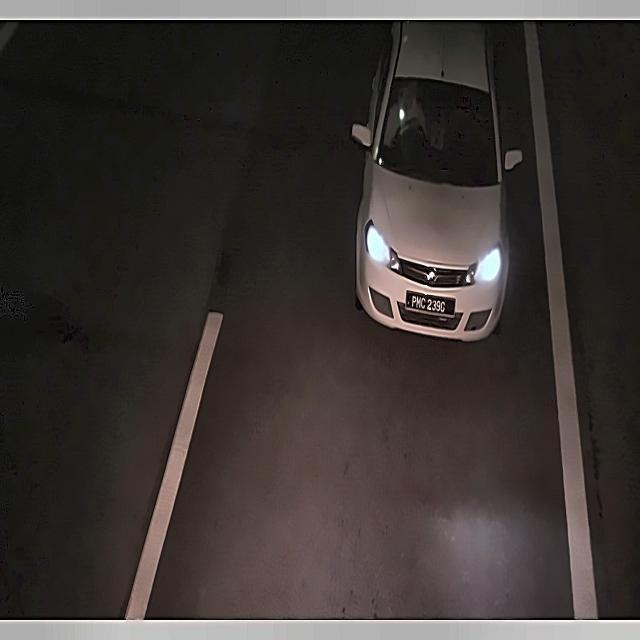car: (402, 288, 462, 323)
